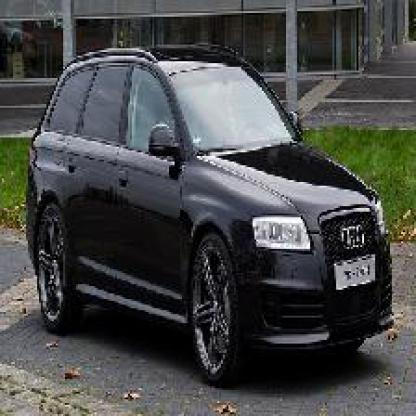not_emergency: (28, 47, 395, 362)
